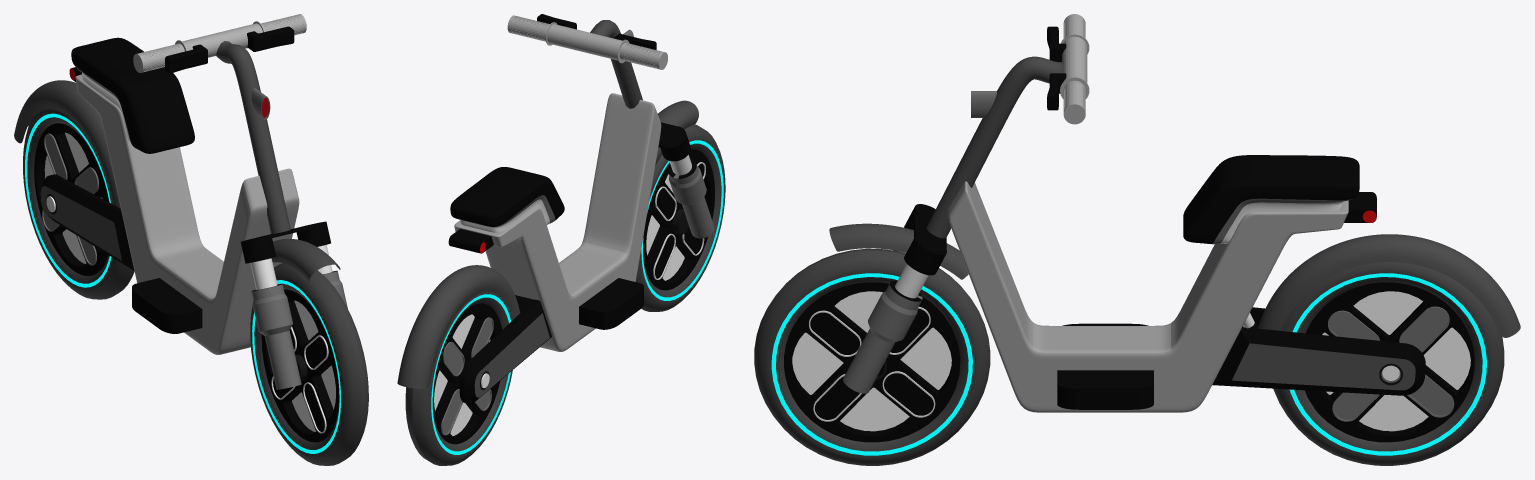
File: bike.glb
3 renders of one model, left to right at view 1: azimuth 30°, elevation 25°; view 2: azimuth 150°, elevation 25°; view 3: azimuth 270°, elevation 25°, orthographic. The views are drawn at different scales.
Visible parts, largest first — view 1: Cube_31, Torus.005_35, Cube.002_29, Cylinder.006_20, Torus.006_34, Cube.001_30, NurbsPath_2, Cylinder.014_18, Torus.003_1, Cylinder.007_4, Cube.005_26, Cylinder.004_22 (+9 smaller); view 2: Cube_31, Torus.003_1, Cube.002_29, Torus.006_34, Cube.001_30, Torus.005_35, Cylinder.004_22, Cylinder.006_20, Cylinder.007_4, Cylinder.014_18, Cube.005_26, NurbsPath_2 (+11 smaller); view 3: Cube_31, Torus.005_35, Torus.006_34, Cube.001_30, Cube.002_29, Torus.003_1, Cylinder.014_18, Cylinder.007_4, Circle.001_32, Cylinder.006_20, Circle_33, NurbsPath_2 (+11 smaller).
Boxes of the visible parts, left/top/right/bottom form: Cube_31: left=75, top=74, right=299, bottom=354; Torus.005_35: left=250, top=263, right=368, bottom=465; Cube.002_29: left=71, top=37, right=194, bottom=153; Cylinder.006_20: left=240, top=221, right=347, bottom=389; Torus.006_34: left=23, top=109, right=134, bottom=299; Cube.001_30: left=40, top=174, right=134, bottom=270; NurbsPath_2: left=216, top=41, right=290, bottom=234; Cylinder.014_18: left=261, top=289, right=338, bottom=442; Torus.003_1: left=14, top=80, right=120, bottom=208; Cylinder.007_4: left=34, top=123, right=108, bottom=275; Cube.005_26: left=132, top=278, right=202, bottom=333; Cylinder.004_22: left=133, top=14, right=306, bottom=72; Cube_31: left=454, top=93, right=661, bottom=351; Torus.003_1: left=397, top=265, right=520, bottom=388; Cube.002_29: left=450, top=167, right=564, bottom=232; Torus.006_34: left=405, top=292, right=512, bottom=465; Cube.001_30: left=459, top=295, right=551, bottom=403; Torus.005_35: left=635, top=124, right=725, bottom=311; Cylinder.004_22: left=507, top=15, right=667, bottom=69; Cylinder.006_20: left=658, top=122, right=714, bottom=238; Cylinder.007_4: left=433, top=303, right=502, bottom=444; Cylinder.014_18: left=643, top=149, right=714, bottom=290; Cube.005_26: left=579, top=278, right=643, bottom=329; NurbsPath_2: left=590, top=20, right=642, bottom=108; Cube_31: left=948, top=181, right=1348, bottom=412; Torus.005_35: left=754, top=248, right=990, bottom=465; Torus.006_34: left=1273, top=262, right=1504, bottom=465; Cube.001_30: left=1212, top=307, right=1425, bottom=395; Cube.002_29: left=1183, top=155, right=1359, bottom=244; Torus.003_1: left=1258, top=234, right=1520, bottom=337; Cylinder.014_18: left=784, top=282, right=960, bottom=442; Cylinder.007_4: left=1305, top=282, right=1474, bottom=442; Circle.001_32: left=792, top=291, right=951, bottom=431; Cylinder.006_20: left=843, top=204, right=946, bottom=393; Circle_33: left=1322, top=291, right=1470, bottom=431; NurbsPath_2: left=926, top=56, right=1064, bottom=238.
Bounding box in the file's own units: 1.01 × 2.12 × 3.61.
